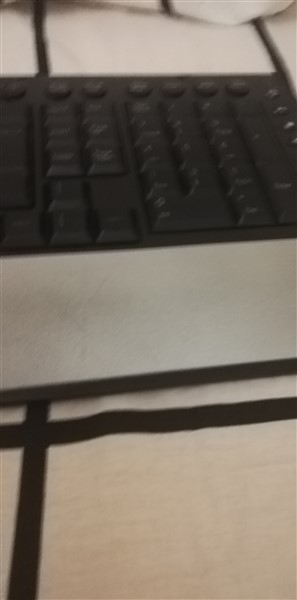klavye: (1, 69, 289, 387)
